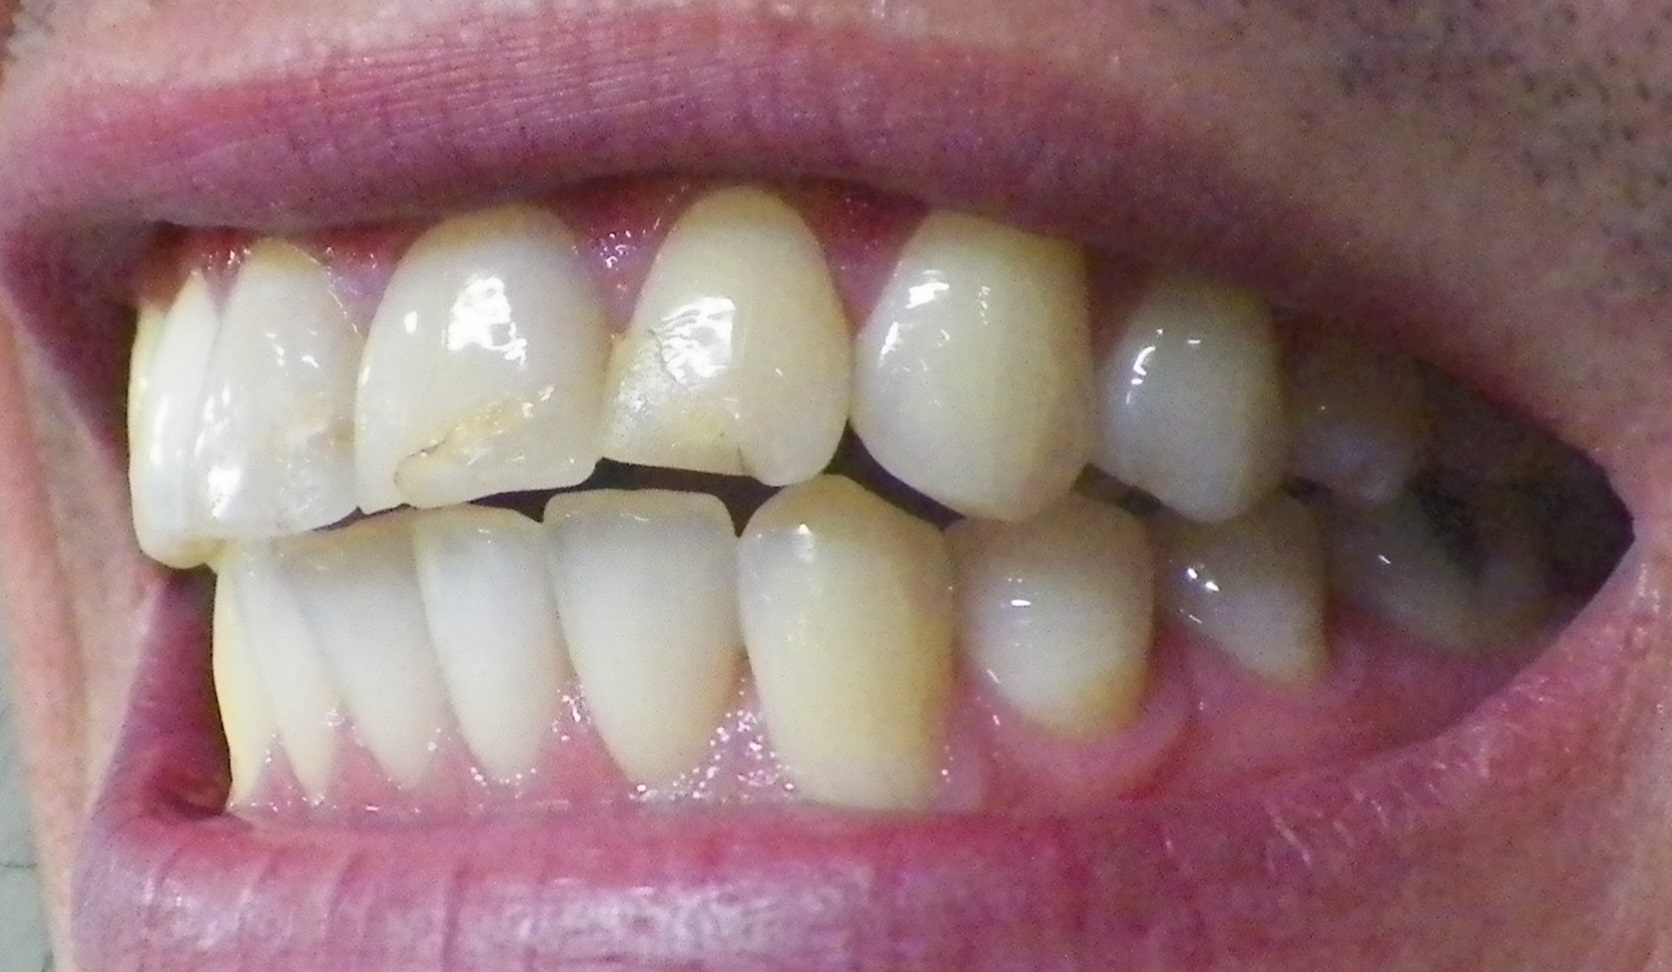boca: (128, 240, 1566, 788)
